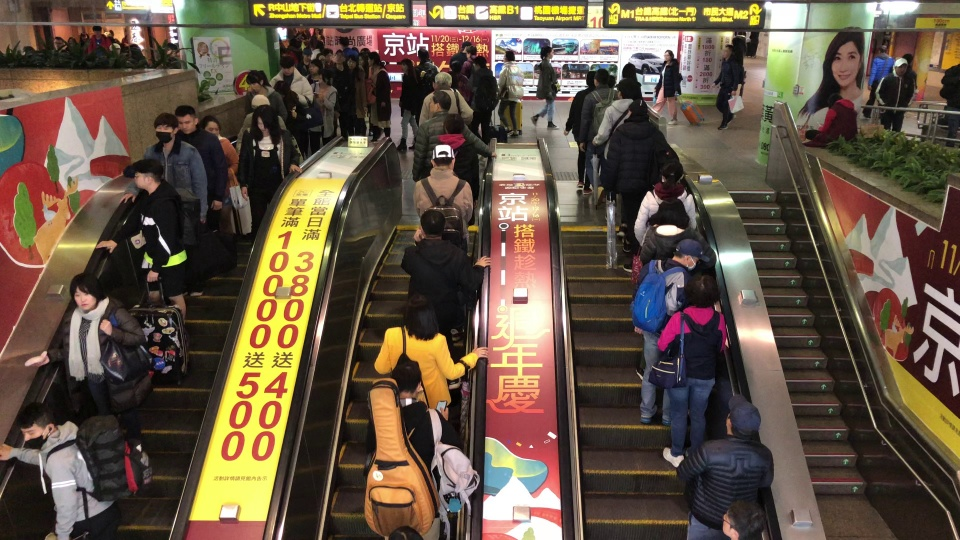person_head: (16, 403, 56, 448), (725, 396, 762, 440), (398, 292, 439, 328), (388, 357, 423, 397), (69, 273, 105, 311), (124, 161, 164, 194), (414, 209, 448, 244), (688, 275, 720, 307), (654, 198, 690, 225), (426, 144, 457, 172), (153, 112, 179, 144), (251, 104, 278, 134), (673, 238, 699, 269), (173, 105, 198, 134), (387, 522, 423, 540), (624, 100, 650, 124), (244, 69, 267, 94), (444, 114, 467, 136), (428, 93, 452, 114), (198, 116, 221, 137), (661, 165, 684, 184), (616, 82, 639, 100), (658, 148, 678, 166), (822, 93, 845, 108), (892, 58, 910, 76), (278, 56, 294, 76), (597, 69, 611, 91), (433, 71, 451, 88), (620, 62, 638, 79), (250, 94, 269, 110), (500, 50, 519, 66), (273, 80, 287, 99), (309, 58, 324, 75), (540, 45, 555, 61), (583, 71, 598, 87), (397, 59, 414, 72), (473, 55, 488, 68), (318, 70, 330, 86), (333, 49, 346, 63), (368, 51, 380, 65), (721, 45, 733, 59), (52, 37, 64, 50), (661, 50, 674, 62), (346, 56, 357, 69), (302, 47, 312, 61), (323, 48, 333, 61), (315, 53, 325, 66), (878, 45, 890, 55), (357, 55, 367, 66), (92, 25, 102, 35), (79, 32, 89, 41)
person_vbox: (366, 355, 484, 534), (0, 403, 151, 540), (31, 272, 150, 413), (119, 111, 208, 296), (94, 159, 195, 319), (675, 393, 780, 540), (653, 271, 731, 467), (375, 292, 492, 412), (398, 209, 495, 346), (637, 237, 702, 423), (606, 98, 675, 260), (197, 115, 248, 270), (413, 93, 498, 177), (173, 104, 226, 237), (236, 104, 303, 202), (411, 143, 473, 247), (236, 93, 304, 167), (640, 166, 697, 252), (598, 78, 642, 188), (635, 198, 701, 261), (564, 72, 598, 191), (437, 112, 481, 203), (585, 69, 618, 187), (799, 91, 859, 151), (392, 58, 427, 154), (872, 57, 916, 133), (711, 45, 746, 133), (529, 43, 563, 131), (647, 47, 683, 128), (420, 70, 473, 125), (496, 50, 527, 140), (469, 55, 501, 140), (269, 80, 305, 154), (861, 43, 896, 118), (310, 69, 340, 151), (244, 69, 287, 125), (366, 50, 392, 140), (269, 55, 314, 107), (618, 61, 652, 121), (344, 55, 368, 136), (939, 61, 960, 149), (719, 502, 767, 540), (332, 48, 346, 135), (87, 25, 112, 58), (297, 47, 313, 75)
